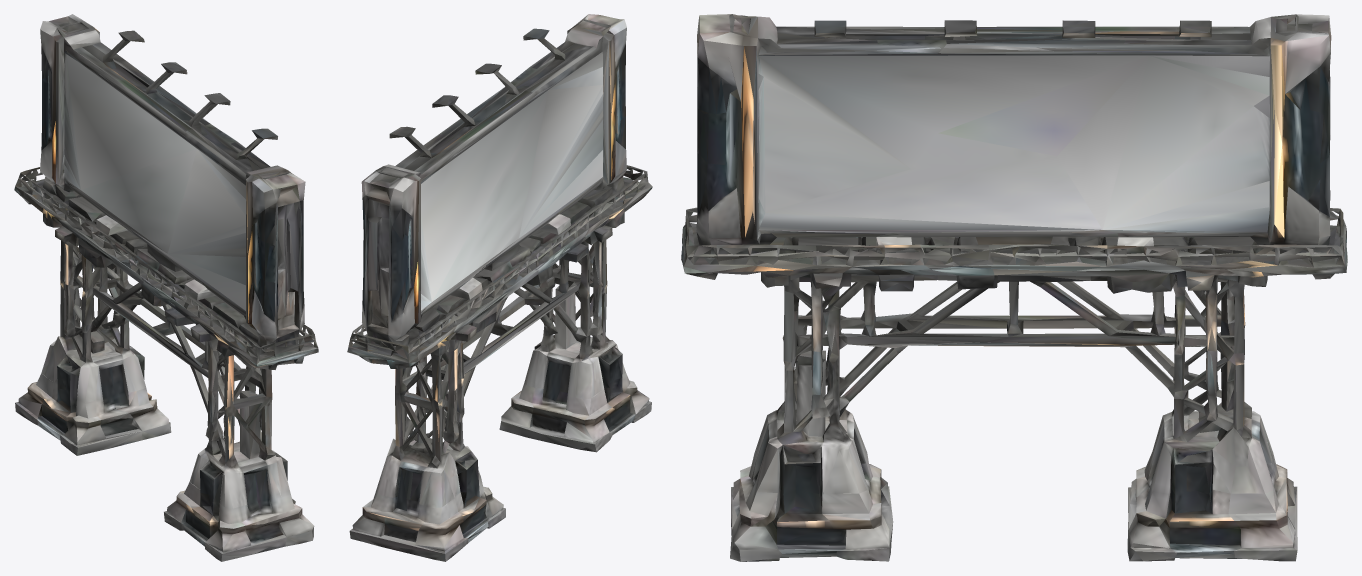
Rendered from billboard_frame.glb.
3 views of the same model, side by side, from view 1: azimuth 30°, elevation 25°; view 2: azimuth 150°, elevation 25°; view 3: azimuth 270°, elevation 25° (orthographic). The views are drawn at different scales.
Parts seen in each view (by area): view 1: billboard_frame; view 2: billboard_frame; view 3: billboard_frame.
Boxes of the visible parts, x1,y1,x2,y2 form: billboard_frame: (14, 14, 318, 561); billboard_frame: (347, 14, 652, 561); billboard_frame: (681, 14, 1347, 561).
Size of the model in its own units: 3.22 by 12.19 by 13.99.
Materials: 1 (1 with a texture image).
